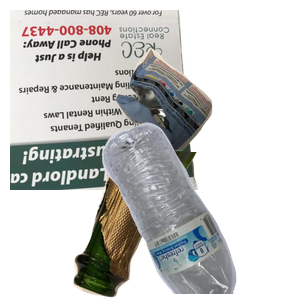glass: (71, 152, 260, 300)
paper: (10, 10, 201, 190)
plastic: (100, 120, 300, 300)
trash: (113, 46, 300, 189)
